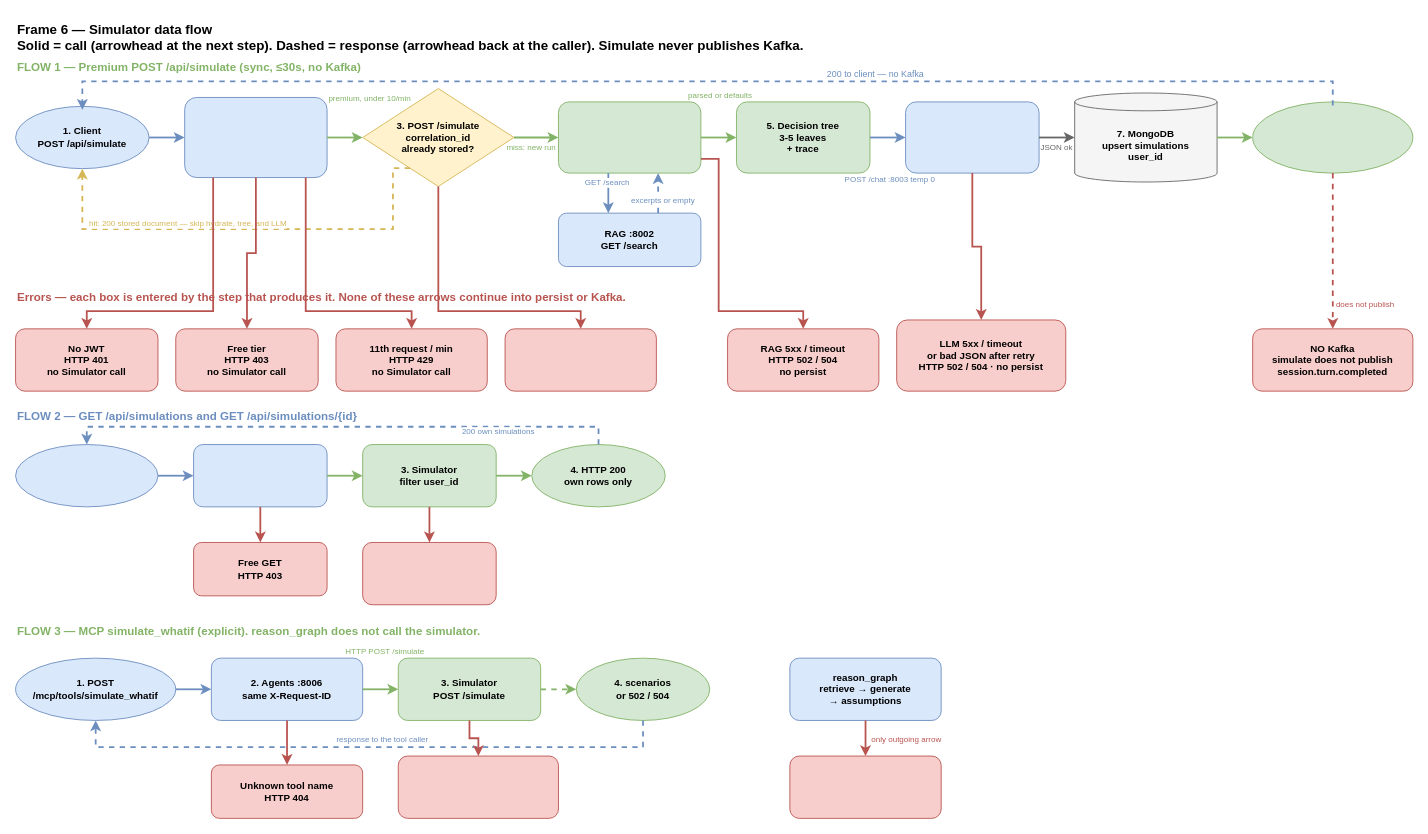
Image size: 1428x834. Some labels were removed from this diagram. The centre of each missing label's shape, as x and y in pixels:
1. Client GET /api/simulations: the point at 86,475
2. API Router JWT premium: the point at 260,475
2. API Router JWT premium rate 10/min X-Request-ID: the point at 255,137
4. Hydrate skip if variables cover families: the point at 629,137
6. LLM :8003 POST /chat temperature 0: the point at 972,137
8. HTTP 200 scenarios + assumptions llm_used true: the point at 1332,137
Blank question HTTP 422 no LLM, no persist: the point at 580,359
Cross-user id HTTP 404 no leak: the point at 429,573
NO auto-route chat does not call simulate_whatif: the point at 865,786
Simulator 5xx / timeout HTTP 502 / 504 no invented scenarios: the point at 477,786
